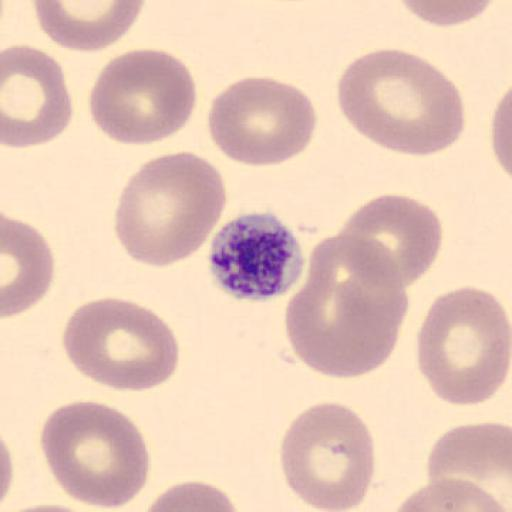Platelet: (204, 209, 308, 304)
RBC: (284, 232, 409, 380), (336, 47, 466, 158), (114, 150, 228, 270), (283, 272, 404, 380), (38, 399, 152, 511), (60, 295, 182, 393), (415, 284, 511, 408), (88, 48, 198, 148), (278, 400, 376, 512), (206, 74, 319, 169), (336, 192, 444, 289), (425, 420, 512, 512), (1, 43, 74, 149), (32, 0, 146, 54), (2, 214, 56, 320), (388, 475, 511, 512), (140, 478, 241, 512), (394, 0, 498, 28), (490, 82, 512, 185), (0, 430, 14, 512), (0, 503, 108, 512)
